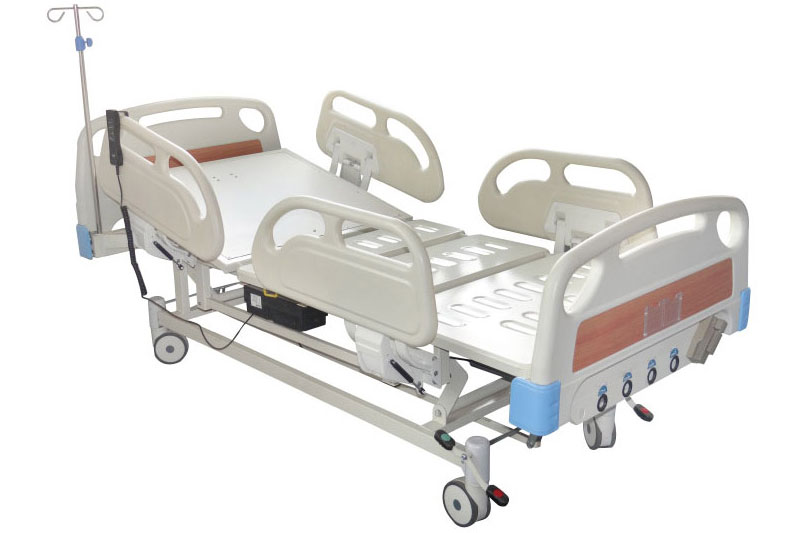trolley_bed: (46, 4, 760, 528)
